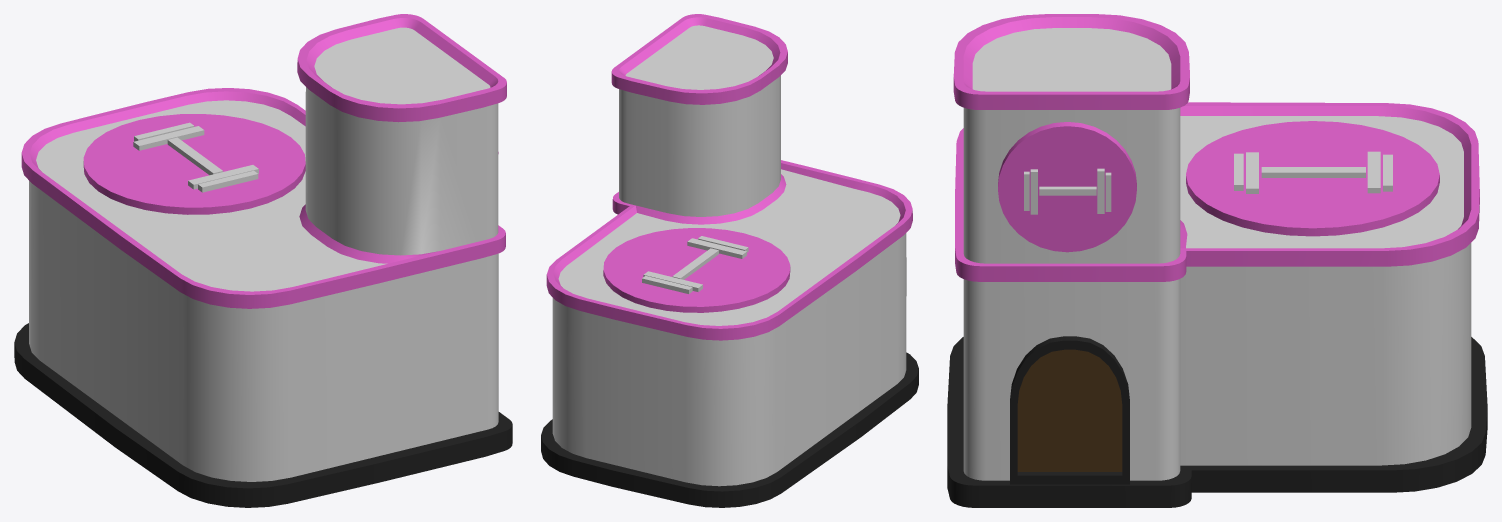
File: gym.glb
3 renders of one model, left to right at view 1: azimuth 30°, elevation 25°; view 2: azimuth 150°, elevation 25°; view 3: azimuth 270°, elevation 25°, orthographic. The views are drawn at different scales.
Parts seen in each view (by area): view 1: Gym; view 2: Gym; view 3: Gym.
Part boxes in pixels (<box>): Gym: <box>14,14,512,507</box>; Gym: <box>541,14,918,507</box>; Gym: <box>947,14,1487,507</box>.
Size of the model in its own units: 5.11 by 5.71 by 6.79.
